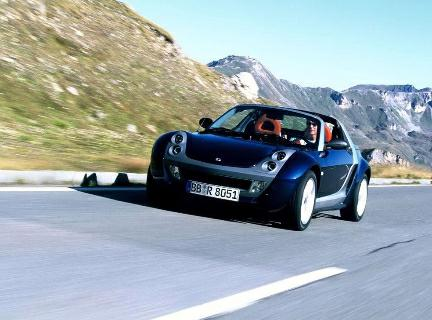smart-roadster: (130, 104, 376, 229)
